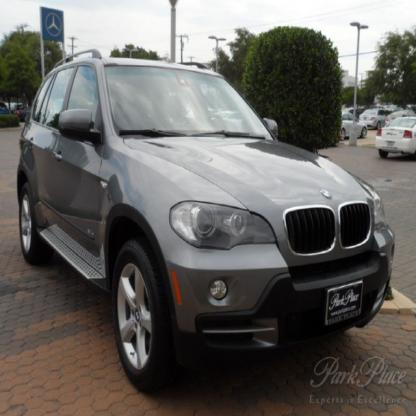Vehicle: (15, 44, 407, 400)
